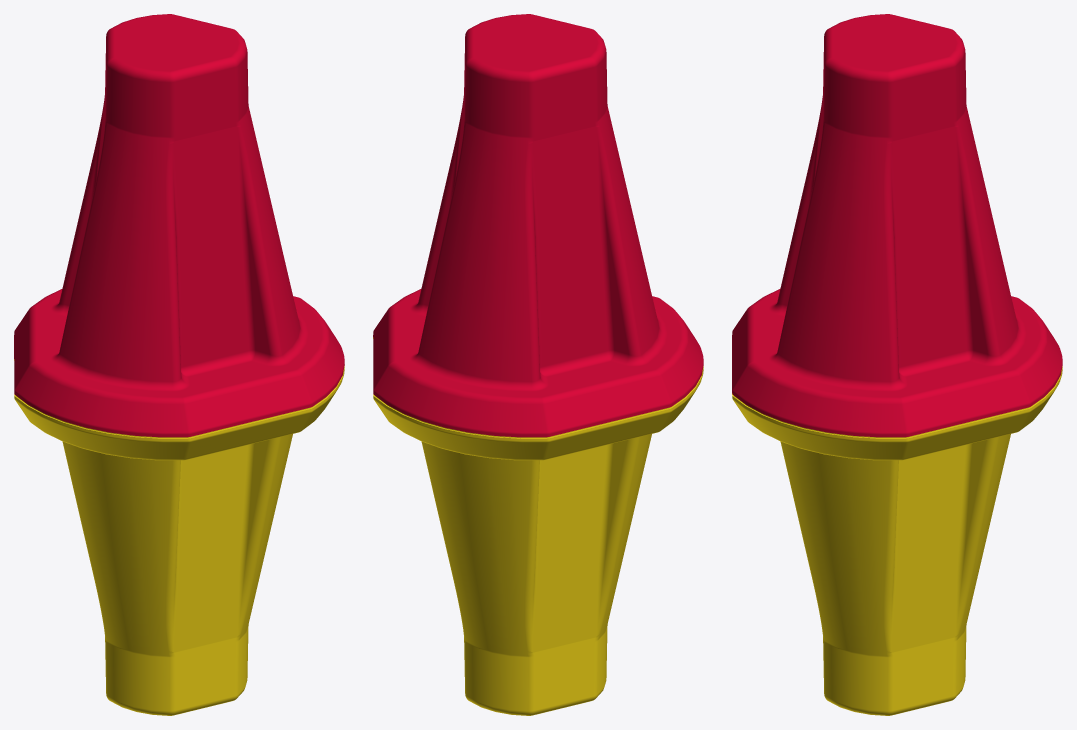
File: V5RC-Override-H2H-_-RedYellowPin.glb
3 renders of one model, left to right at view 1: azimuth 30°, elevation 25°; view 2: azimuth 150°, elevation 25°; view 3: azimuth 270°, elevation 25°, orthographic.
Parts seen in each view (by area): view 1: V5RC-Override-H2H-_-RedYellowPin; view 2: V5RC-Override-H2H-_-RedYellowPin; view 3: V5RC-Override-H2H-_-RedYellowPin.
Part boxes in pixels (<box>): V5RC-Override-H2H-_-RedYellowPin: <box>14,14,344,715</box>; V5RC-Override-H2H-_-RedYellowPin: <box>373,14,703,715</box>; V5RC-Override-H2H-_-RedYellowPin: <box>732,14,1062,715</box>.
Bounding box in the file's own units: 0.0801 × 0.165 × 0.0768.
